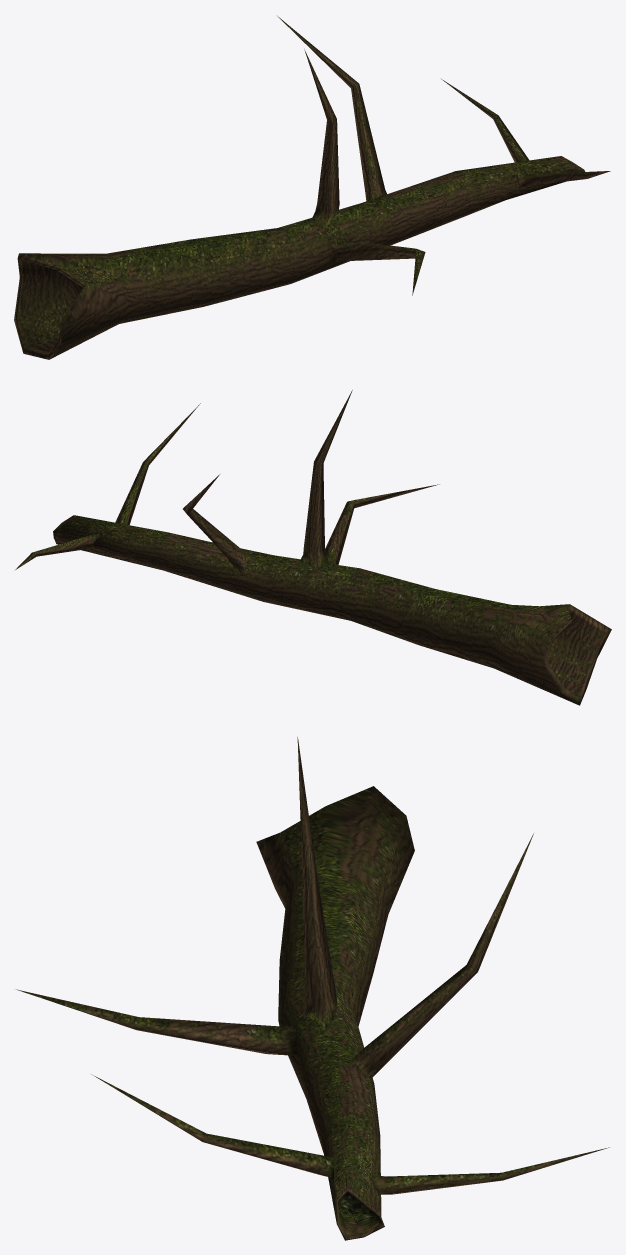
File: OakBreakA.glb
3 renders of one model, top to bottom at view 1: azimuth 30°, elevation 25°; view 2: azimuth 150°, elevation 25°; view 3: azimuth 270°, elevation 25°, orthographic. The views are drawn at different scales.
Parts seen in each view (by area): view 1: OakBreakA.001; view 2: OakBreakA.001; view 3: OakBreakA.001.
Part boxes in pixels (left/top/right/bottom): OakBreakA.001: left=14, top=16, right=610, bottom=359; OakBreakA.001: left=15, top=390, right=611, bottom=705; OakBreakA.001: left=16, top=737, right=609, bottom=1240.
Bounding box in the file's own units: 16.71 × 7.34 × 10.97.
1 material, 1 textured.
